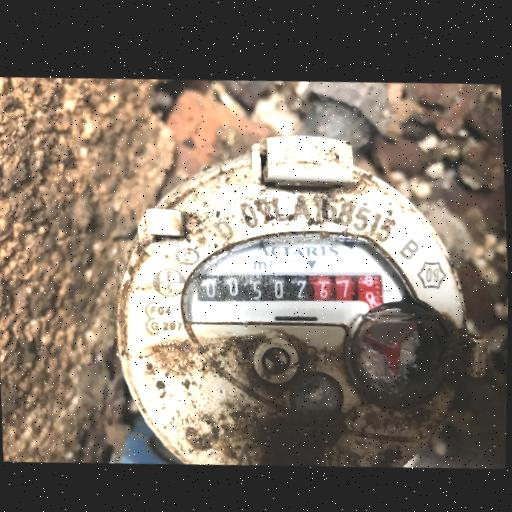0: (196, 273, 222, 302), (220, 273, 244, 302), (266, 274, 290, 303)
2: (288, 273, 313, 302)
5: (243, 274, 267, 303)
6: (312, 274, 335, 303)
7: (334, 274, 359, 303)
8: (356, 274, 384, 314)
border_water_meter_number: (182, 244, 406, 341)
